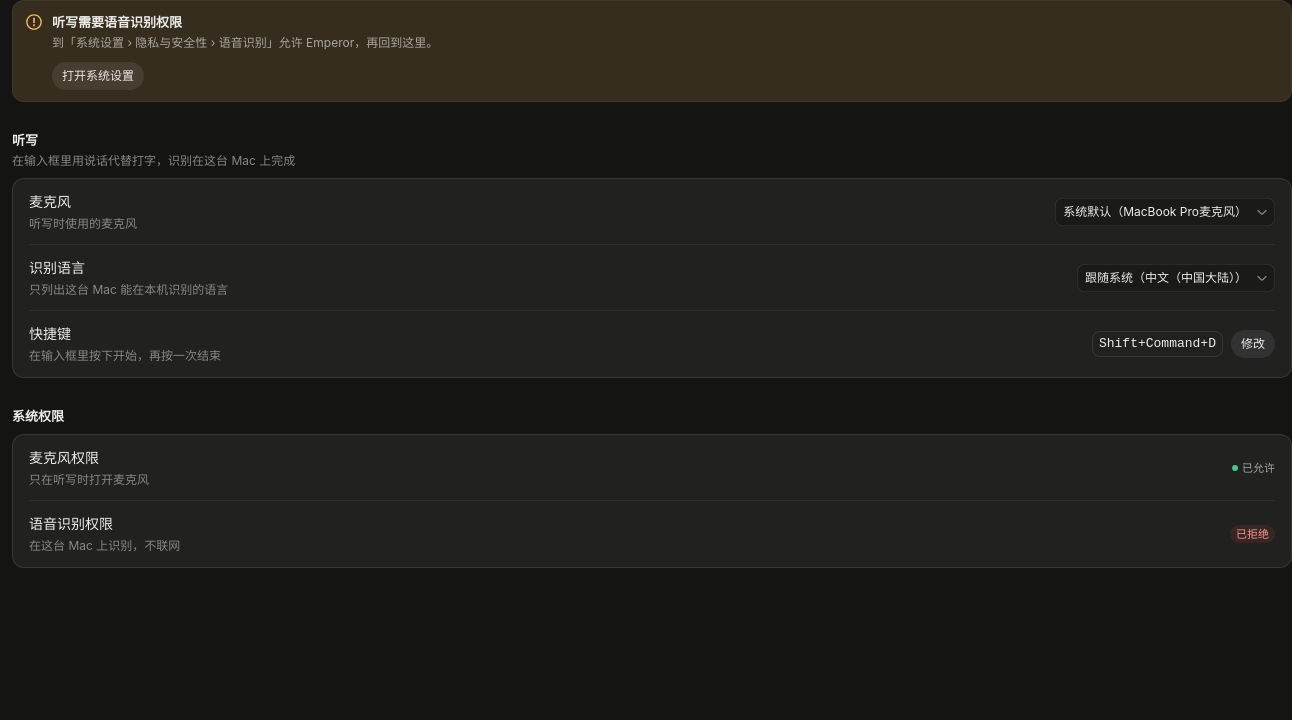
Scenario: VoiceSettingsSection › says the way by hand when System Settings did not open
The width and height of the screenshot is (1292, 720).
Click the button "打开系统设置".
click(98, 76)  # box [52,62,144,90]
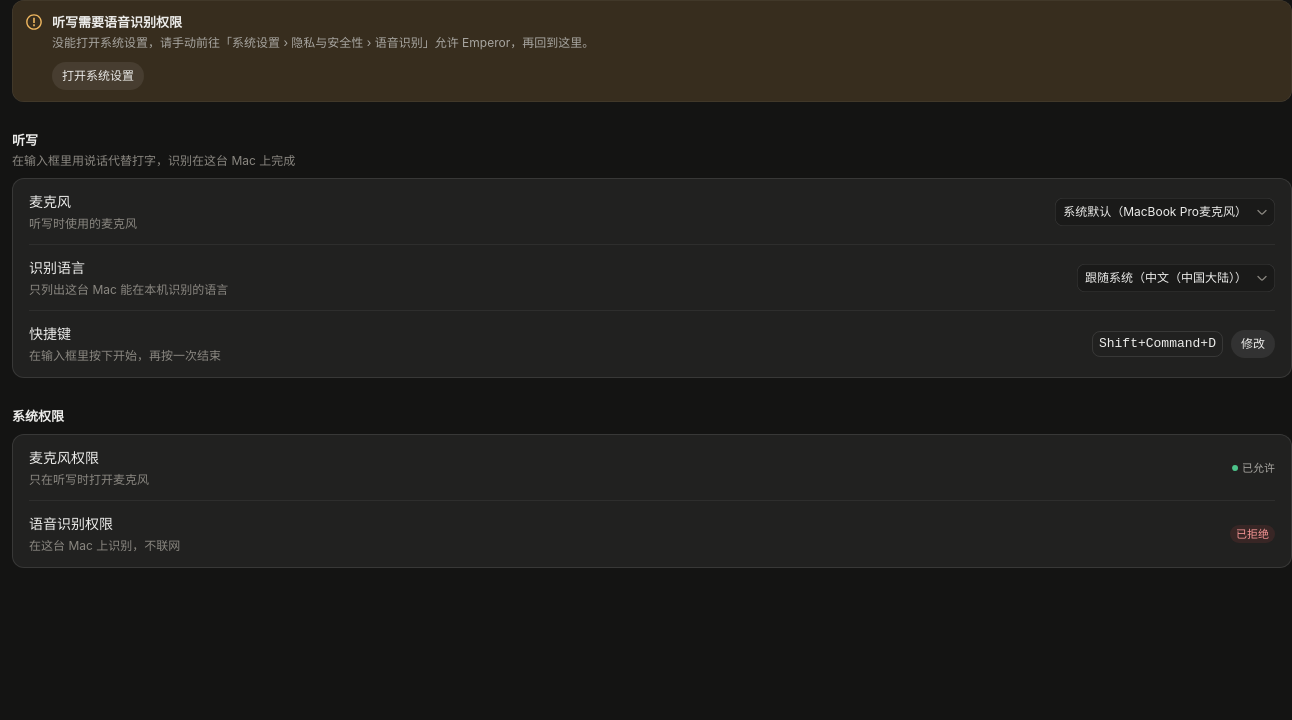
Now the message with class "ds-notice" shows "没能打开系统设置，请手动前往「系统设置 › 隐私与安全性 › 语音识别」", box [52,35,594,50]
